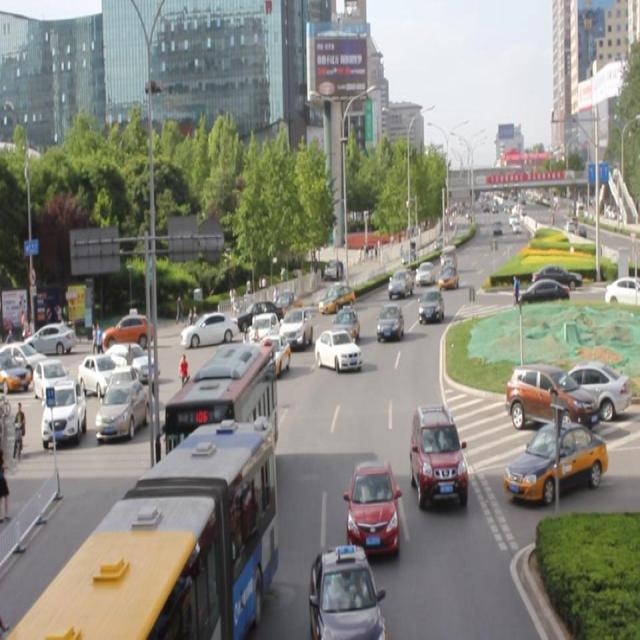car: (502, 416, 606, 500), (310, 541, 382, 640), (411, 404, 464, 506), (346, 458, 397, 549), (314, 328, 363, 372), (180, 311, 238, 346), (211, 345, 245, 395), (236, 300, 286, 332), (255, 335, 294, 376), (279, 304, 312, 350), (249, 310, 278, 351), (318, 284, 356, 313), (376, 301, 403, 340), (331, 305, 358, 341), (418, 288, 444, 324), (387, 267, 413, 298), (437, 262, 459, 290), (414, 258, 434, 287)
van: (9, 417, 277, 640), (166, 343, 276, 488)
